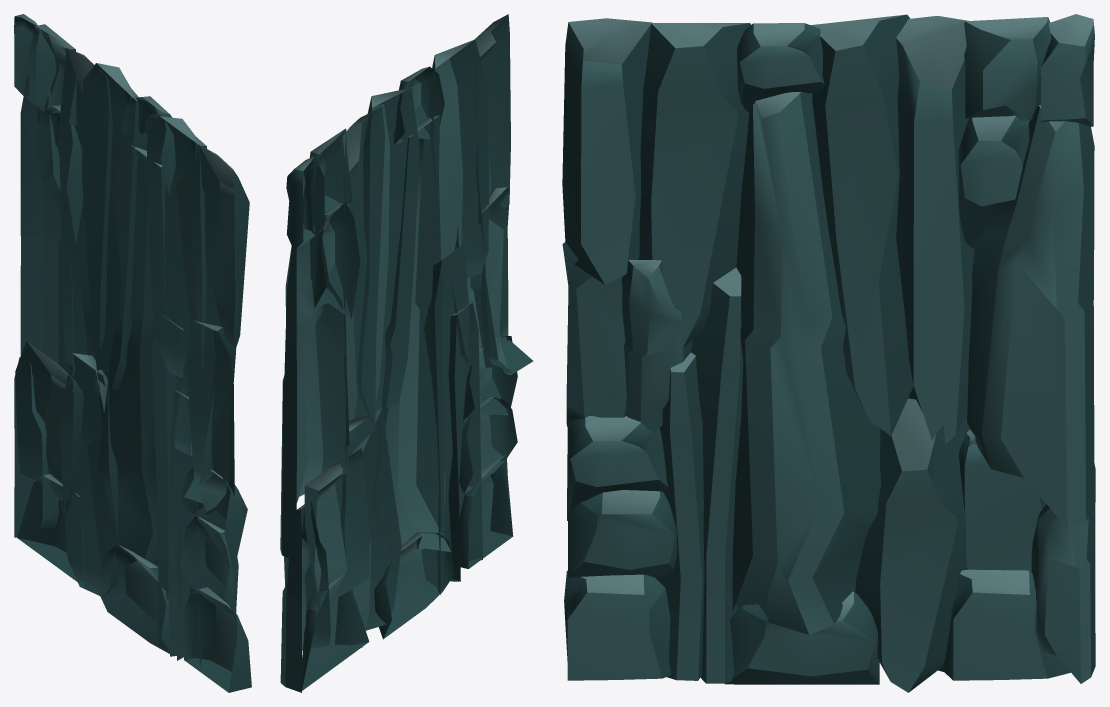
File: stone_wall.fbx
The picture shows the model from 3 angles, left to right: view 1: azimuth 30°, elevation 25°; view 2: azimuth 150°, elevation 25°; view 3: azimuth 270°, elevation 25°; orthographic projection. The views are drawn at different scales.
Visible parts, largest first — view 1: pCube45; view 2: pCube45; view 3: pCube45.
Boxes of the visible parts, <box> form: pCube45: <box>14,14,251,692</box>; pCube45: <box>280,14,533,692</box>; pCube45: <box>562,14,1095,692</box>.
Bounding box in the file's own units: 15.66 × 148 × 107.
